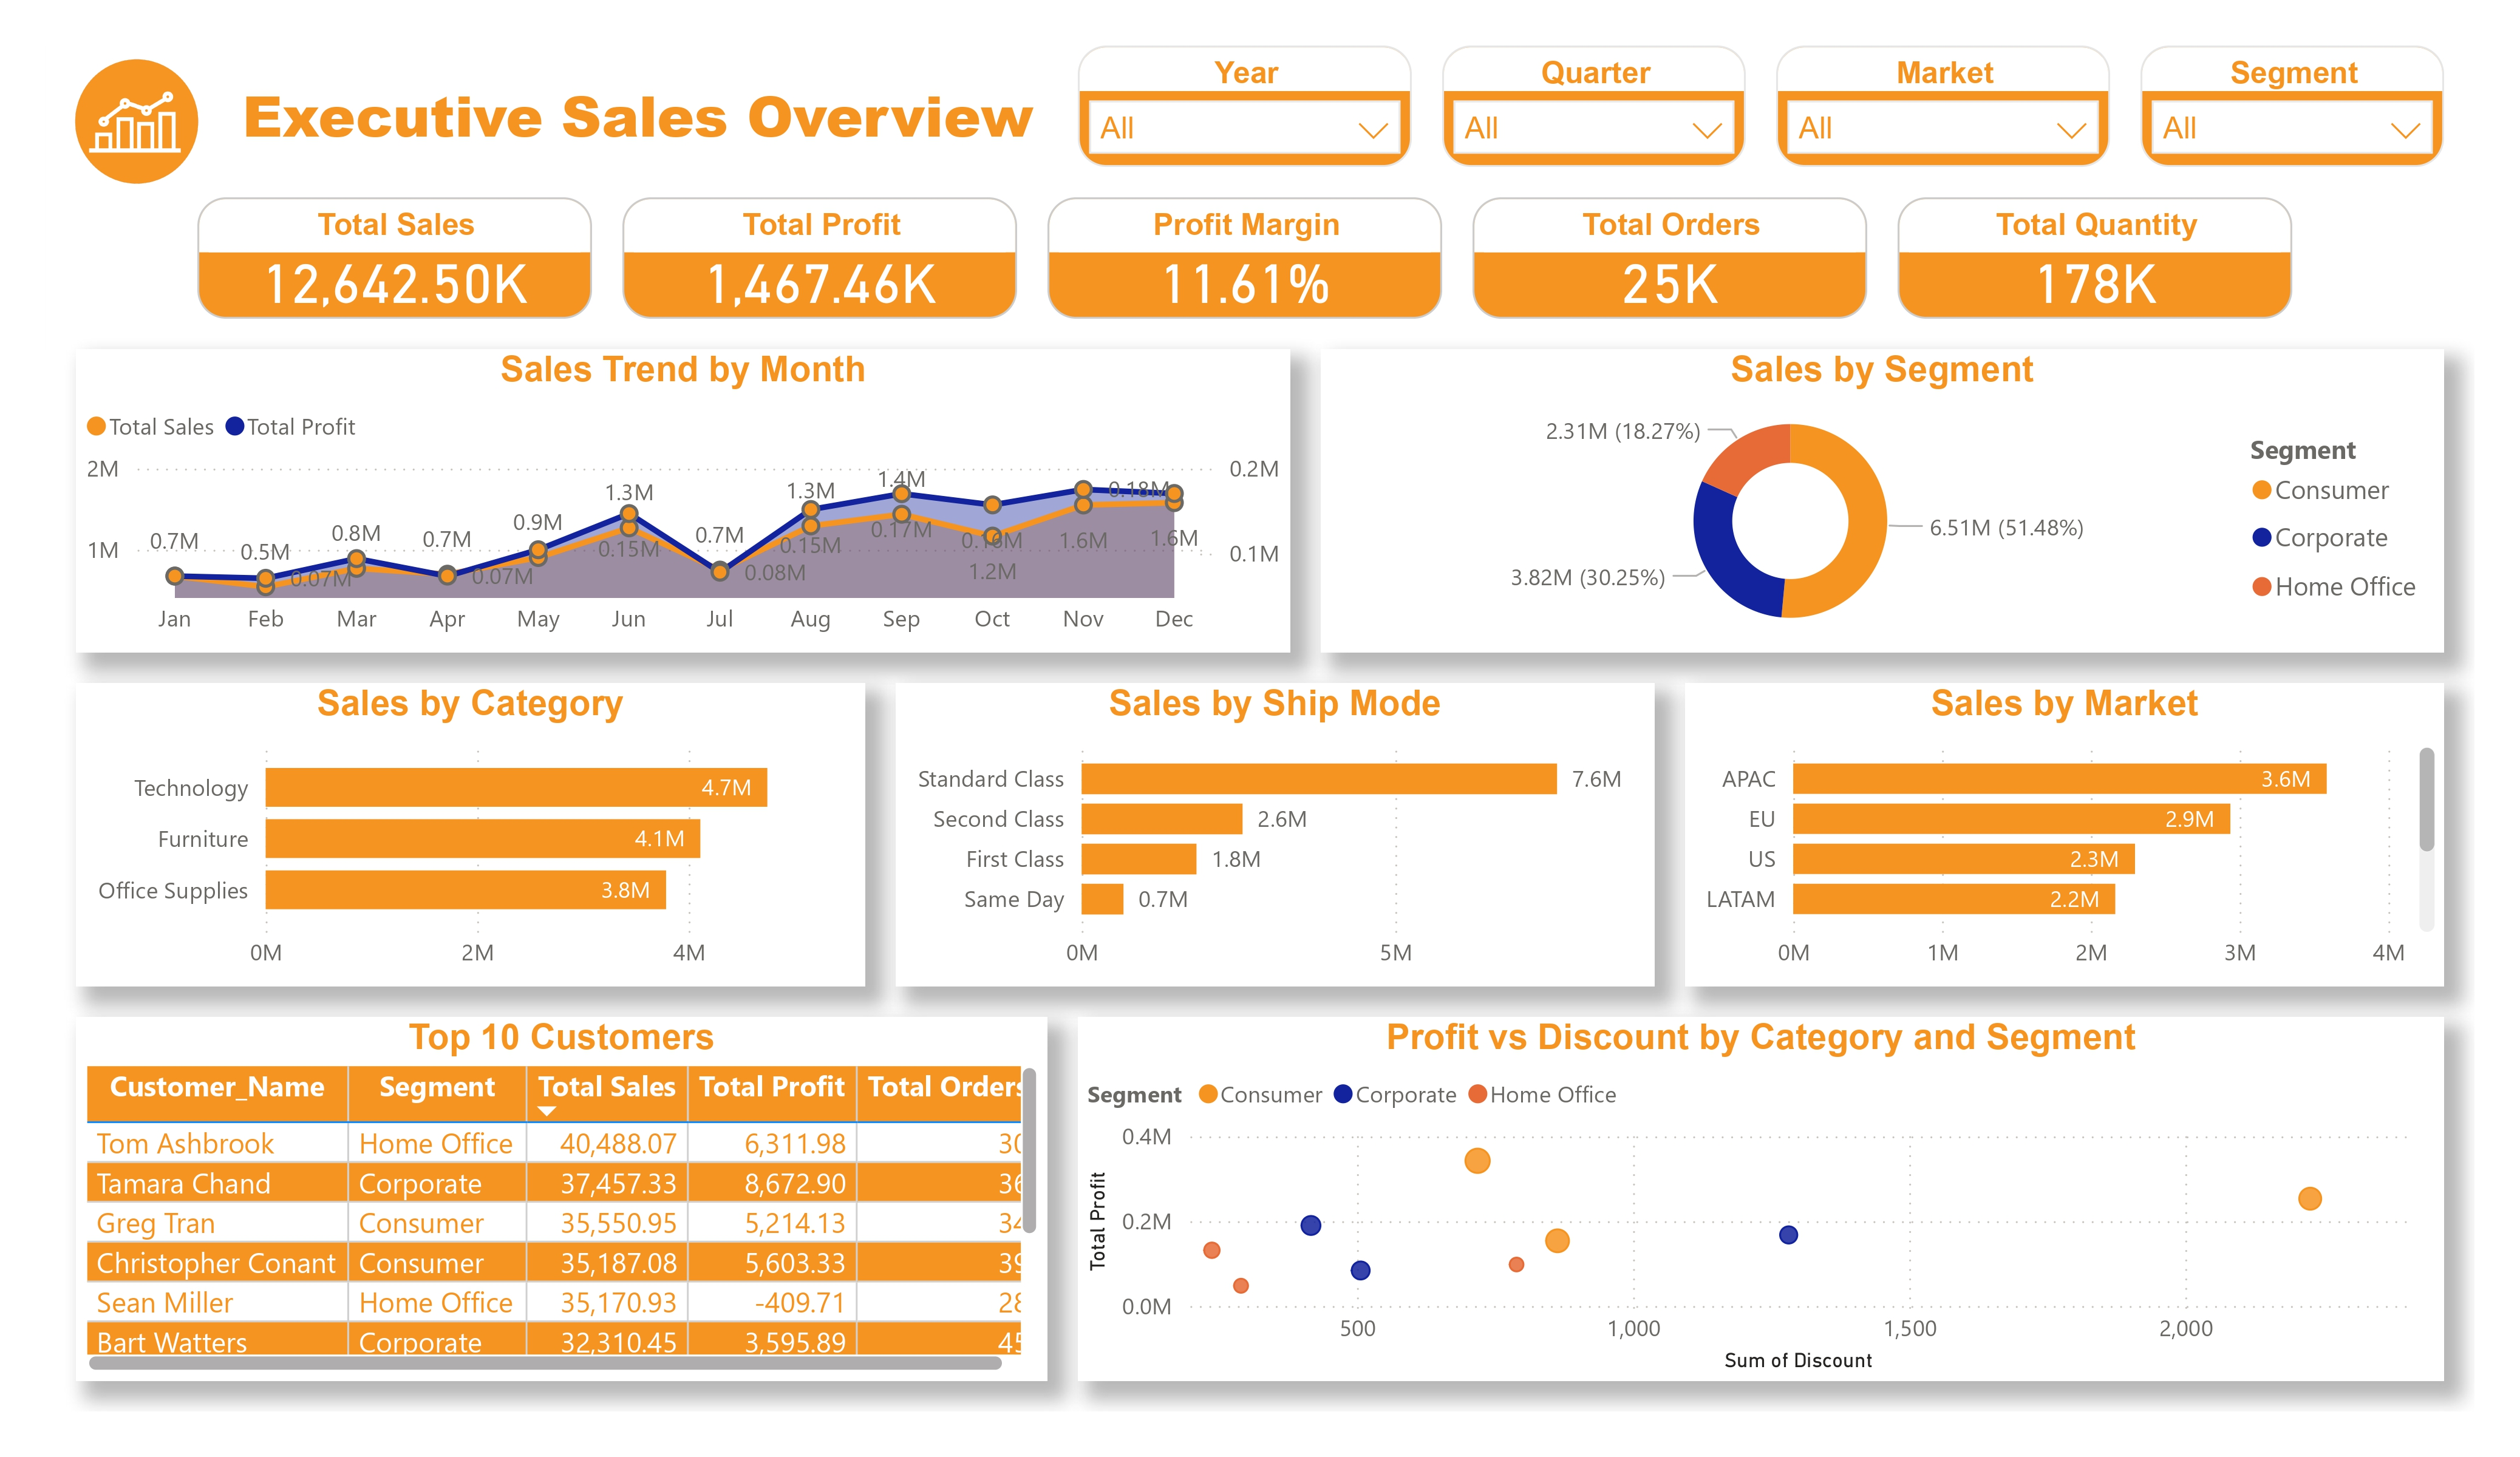

Layout of this report page (visuals, bound fields, positions):
{"tool":"powerbi","page":{"name":"Overview","canvas":[1280,720],"ordinal":0},"visuals":[{"type":"image","box":[0,0,96,80],"z":0},{"type":"textbox","title":"Executive Sales Overview","box":[96,16,432,48],"z":1000},{"type":"slicer","title":"Year","fields":{"Values":["date_table.Year"]},"box":[544,0,176,64],"z":2000},{"type":"slicer","title":"Quarter","fields":{"Values":["date_table.Quarter"]},"box":[736,0,160,64],"z":3000},{"type":"slicer","title":"Market","fields":{"Values":["dim_geography.Market"]},"box":[912,0,176,64],"z":4000},{"type":"slicer","title":"Segment","fields":{"Values":["dim_customer.Segment"]},"box":[1104,0,160,64],"z":5000},{"type":"card","title":"Total Sales","fields":{"Values":["fact_sales.Total Sales"]},"box":[80,80,208,64],"z":6000},{"type":"card","title":"Total Profit","fields":{"Values":["fact_sales.Total Profit"]},"box":[304,80,208,64],"z":7000},{"type":"card","title":"Profit Margin","fields":{"Values":["fact_sales.Profit Margin"]},"box":[528,80,208,64],"z":8000},{"type":"card","title":"Total Orders","fields":{"Values":["fact_sales.Total Orders"]},"box":[752,80,208,64],"z":9000},{"type":"card","title":"Total Quantity","fields":{"Values":["fact_sales.Total Quantity"]},"box":[976,80,208,64],"z":10000},{"type":"lineChart","title":"Sales Trend by Month","fields":{"Category":["date_table.Month Name"],"Y":["fact_sales.Total Sales"],"Y2":["fact_sales.Total Profit"]},"box":[16,160,640,160],"z":11000},{"type":"donutChart","title":"Sales by Segment","fields":{"Category":["dim_customer.Segment"],"Y":["fact_sales.Total Sales"]},"box":[672,160,592,160],"z":12000},{"type":"clusteredBarChart","title":"Sales by Category","fields":{"Category":["dim_product.Category"],"Y":["fact_sales.Total Sales"]},"box":[16,336,416,160],"z":13000},{"type":"clusteredBarChart","title":"Sales by Ship Mode","fields":{"Y":["fact_sales.Total Sales"],"Category":["fact_sales.Ship_Mode"]},"box":[448,336,400,160],"z":14000},{"type":"clusteredBarChart","title":"Sales by Market","fields":{"Y":["fact_sales.Total Sales"],"Category":["dim_geography.Market"]},"box":[864,336,400,160],"z":15000},{"type":"tableEx","title":"Top 10 Customers","fields":{"Values":["dim_customer.Customer_Name","dim_customer.Segment","fact_sales.Total Sales","fact_sales.Total Profit","fact_sales.Total Orders"]},"box":[16,512,512,192],"z":16000},{"type":"scatterChart","title":"Profit vs Discount by Category and Segment","fields":{"X":["Sum(fact_sales.Discount)"],"Y":["fact_sales.Total Profit"],"Size":["fact_sales.Total Sales"],"Series":["dim_customer.Segment"],"Category":["dim_product.Category"]},"box":[544,512,720,192],"z":17000}]}

Visuals, with their boxes on the page's 1280x720 design canvas (x1, y1, x2, y2). These are canvas units, not pixel positions in the 2520x1457 screenshot, which may show the page scaled, cropped or inside an application window:
image: 0,0,96,80
"Executive Sales Overview" textbox: 96,16,528,64
"Year" slicer: 544,0,720,64
"Quarter" slicer: 736,0,896,64
"Market" slicer: 912,0,1088,64
"Segment" slicer: 1104,0,1264,64
"Total Sales" card: 80,80,288,144
"Total Profit" card: 304,80,512,144
"Profit Margin" card: 528,80,736,144
"Total Orders" card: 752,80,960,144
"Total Quantity" card: 976,80,1184,144
"Sales Trend by Month" lineChart: 16,160,656,320
"Sales by Segment" donutChart: 672,160,1264,320
"Sales by Category" clusteredBarChart: 16,336,432,496
"Sales by Ship Mode" clusteredBarChart: 448,336,848,496
"Sales by Market" clusteredBarChart: 864,336,1264,496
"Top 10 Customers" tableEx: 16,512,528,704
"Profit vs Discount by Category and Segment" scatterChart: 544,512,1264,704
